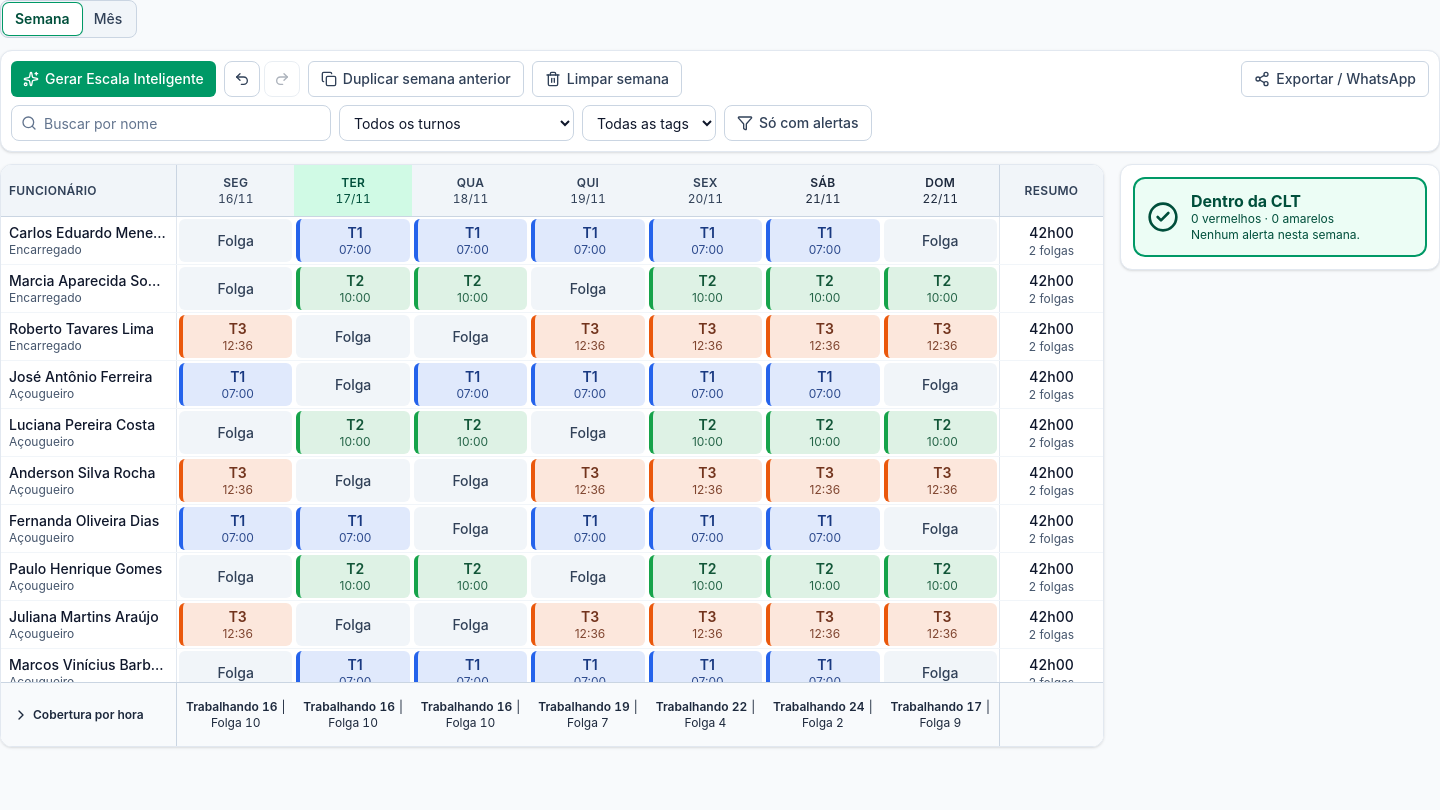
Scenario: ScheduleView › botão Desfazer reflete o histórico
Click the button named "Desfazer".
click(242, 79)  # box [224,61,260,97]
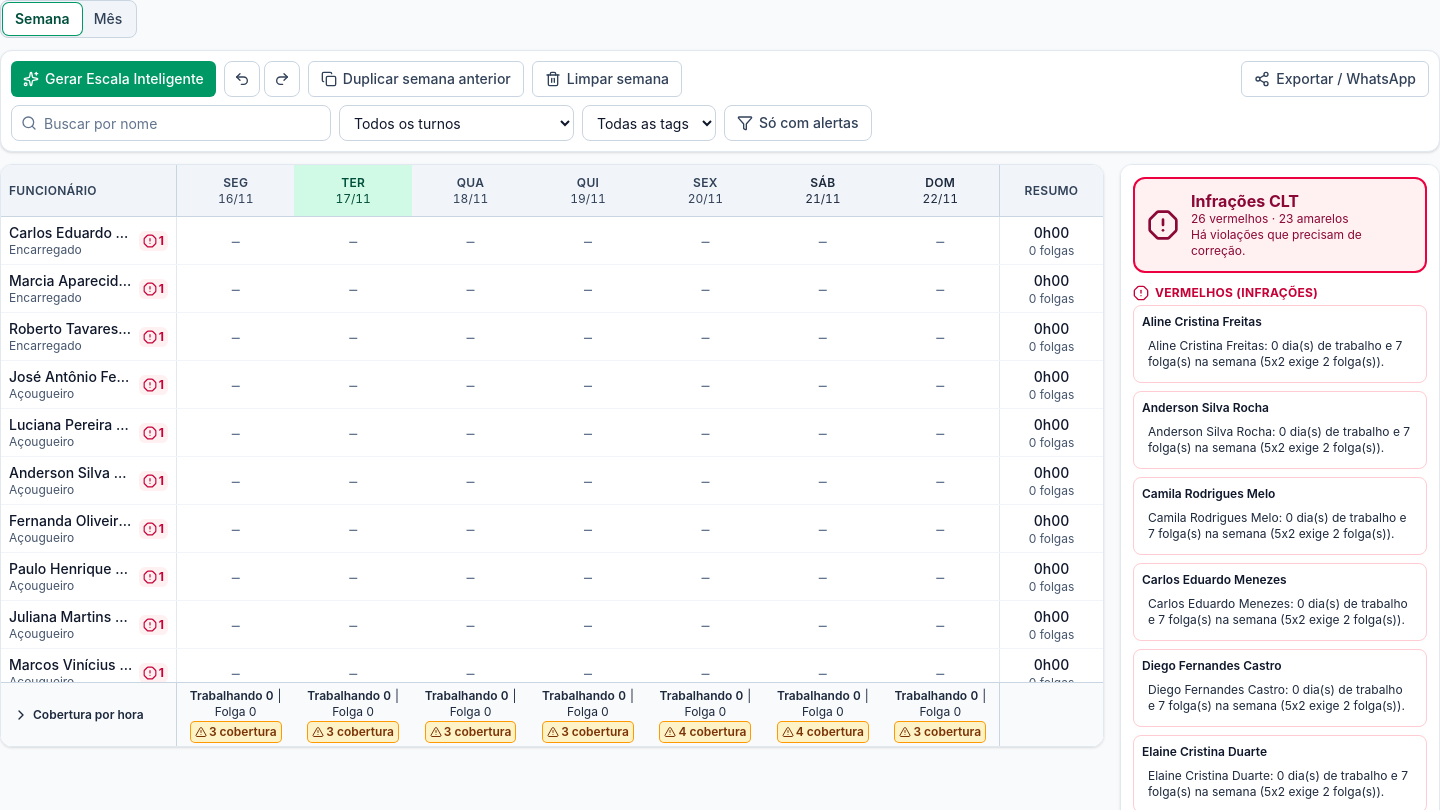
Expected: the button named "Refazer" is enabled, [264,61,300,97]
